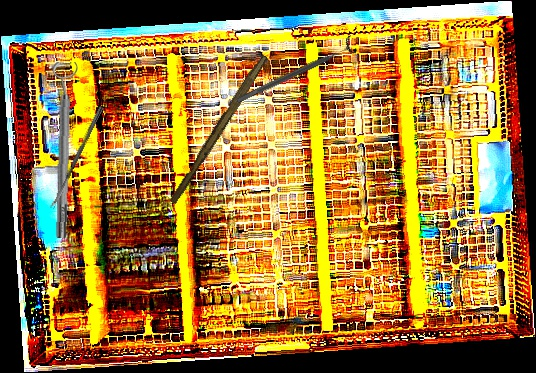Fixation Ring: (232, 34, 359, 110), (45, 61, 81, 239)
Scalpel Handle: (168, 51, 269, 207)
Surgical Spoon: (49, 105, 104, 210)
